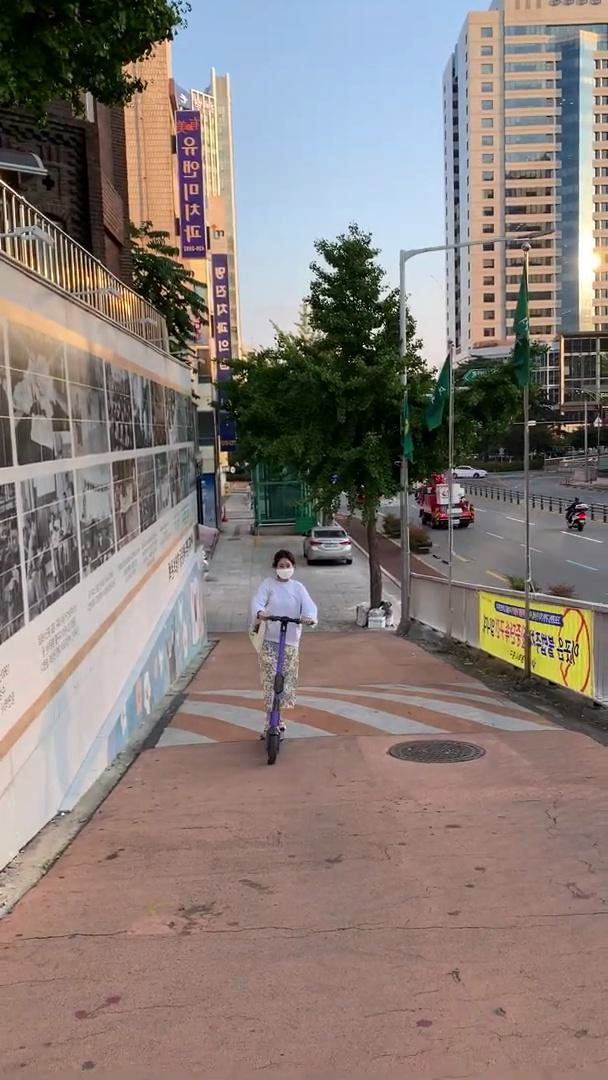nonhelmet: (242, 546, 323, 767)
